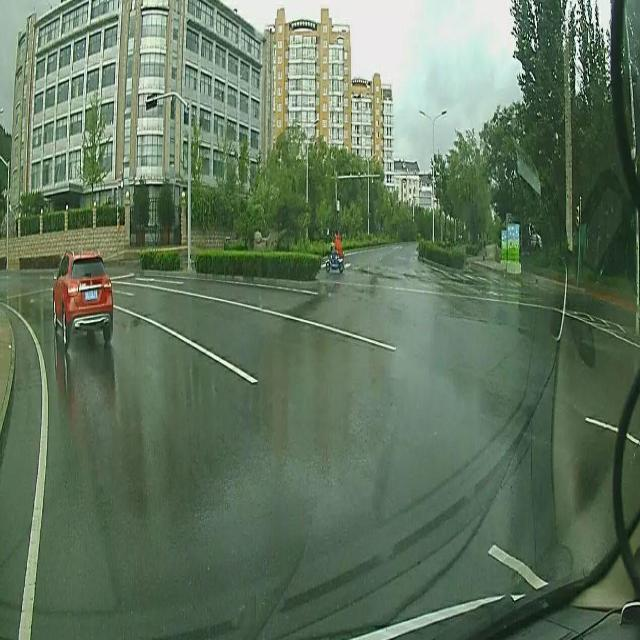car: (50, 251, 114, 345)
